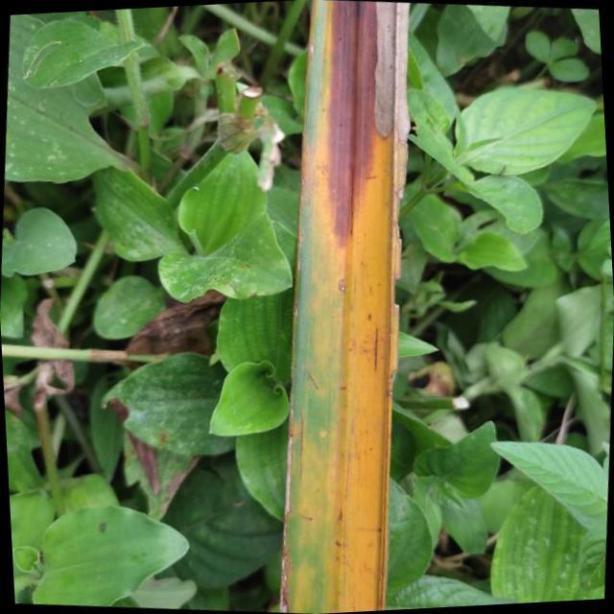Megnesium: (285, 0, 414, 614)
